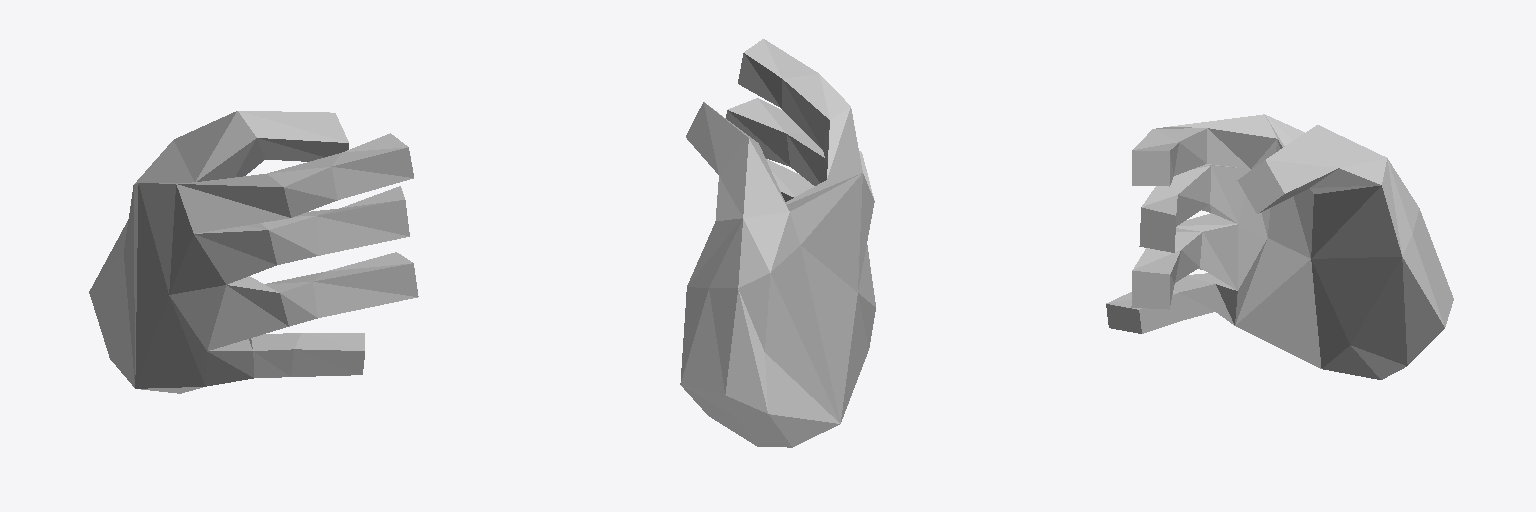
Rendered from ClarinetRightHand4.obj.
3 renders of one model, left to right at view 1: azimuth 30°, elevation 25°; view 2: azimuth 150°, elevation 25°; view 3: azimuth 270°, elevation 25°, orthographic.
Visible parts, largest first — view 1: ClarinetRightHand5_RecorderHandLeft0.028; view 2: ClarinetRightHand5_RecorderHandLeft0.028; view 3: ClarinetRightHand5_RecorderHandLeft0.028.
Boxes of the visible parts, x1=… form: ClarinetRightHand5_RecorderHandLeft0.028: x1=89, y1=111, x2=418, y2=393; ClarinetRightHand5_RecorderHandLeft0.028: x1=680, y1=39, x2=875, y2=447; ClarinetRightHand5_RecorderHandLeft0.028: x1=1106, y1=114, x2=1453, y2=379.
Bounding box in the file's own units: 3.1 × 4.41 × 4.84.